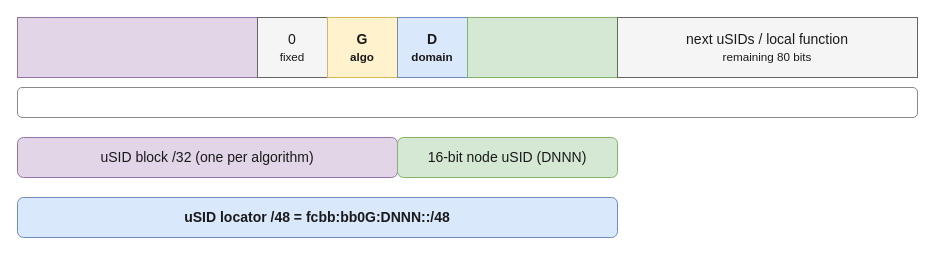
Some shapes in this 935 by 255 pixel diagram are drawn without their labels. The shapes that lost their labels are listed below. From the top down, each one's centre as x and y in pixels, then its label:
At pixel 137 47: "fcbb:bb 24-bit base block, same everywhere".
At pixel 542 47: "NNN node ID".
At pixel 467 102: "24 bits · 4 · 4 · 4 · 12 bits · 80 bits (not to scale)".
